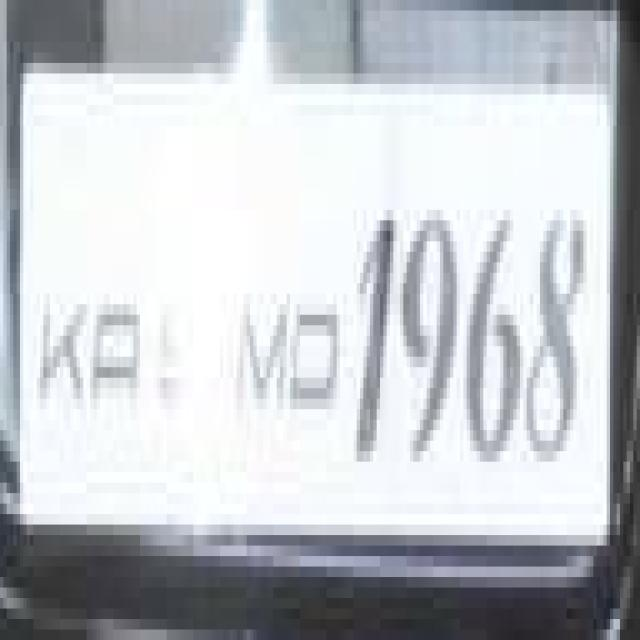license_plate: (0, 10, 617, 588)
